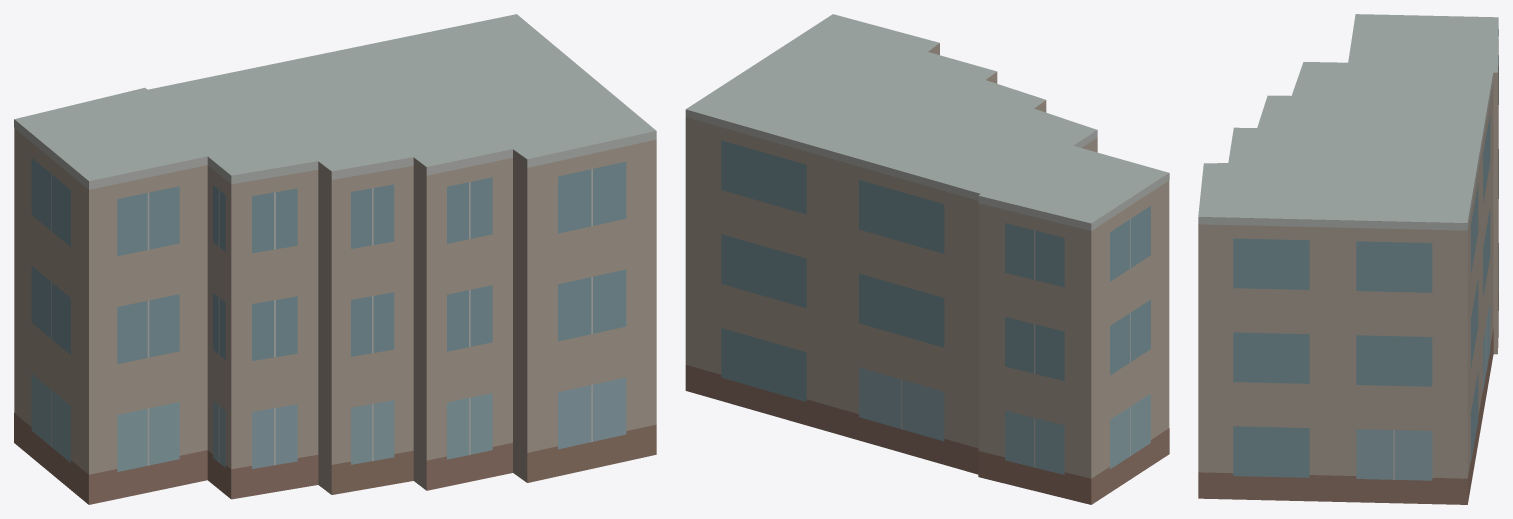
The model's file is survey-upis-32711080.glb.
3 renders of one model, left to right at view 1: azimuth 30°, elevation 25°; view 2: azimuth 150°, elevation 25°; view 3: azimuth 270°, elevation 25°, orthographic. The views are drawn at different scales.
Parts seen in each view (by area): view 1: survey-upis-32711080.tmp; view 2: survey-upis-32711080.tmp; view 3: survey-upis-32711080.tmp.
Part boxes in pixels (x1,y1,x2,y2): survey-upis-32711080.tmp: [14, 14, 656, 504]; survey-upis-32711080.tmp: [685, 14, 1169, 504]; survey-upis-32711080.tmp: [1198, 14, 1498, 504].
Size of the model in its own units: 14.57 by 9.15 by 8.86.
